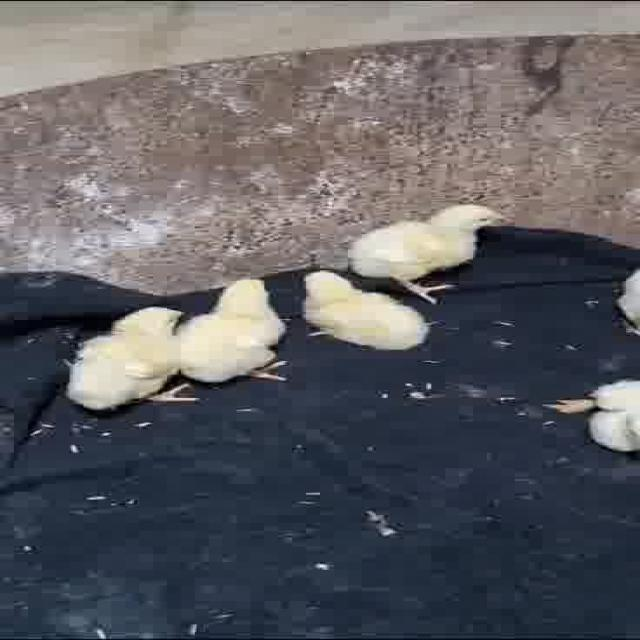poussin: (340, 197, 522, 300), (65, 298, 187, 428), (177, 275, 290, 405), (298, 261, 436, 355), (544, 358, 640, 465)
